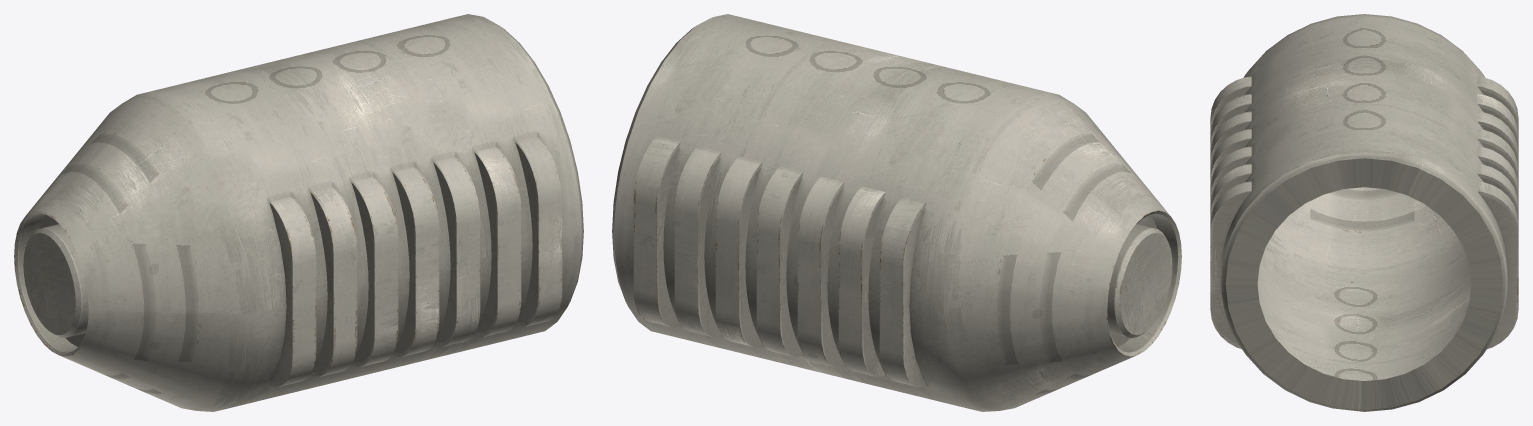
File: pommel_16_u_d.glb
The picture shows the model from 3 angles, left to right: view 1: azimuth 30°, elevation 25°; view 2: azimuth 150°, elevation 25°; view 3: azimuth 270°, elevation 25°; orthographic projection. The views are drawn at different scales.
Visible parts, largest first — view 1: pommel_16_u_d_lod0; view 2: pommel_16_u_d_lod0; view 3: pommel_16_u_d_lod0.
Part boxes in pixels (x1,y1,x2,y2): pommel_16_u_d_lod0: (14, 14, 583, 411); pommel_16_u_d_lod0: (612, 14, 1181, 411); pommel_16_u_d_lod0: (1210, 14, 1518, 411).
Size of what is drawn, in the model's own units: 0.0484 by 0.0302 by 0.0325.
Materials: 1 (1 with a texture image).
